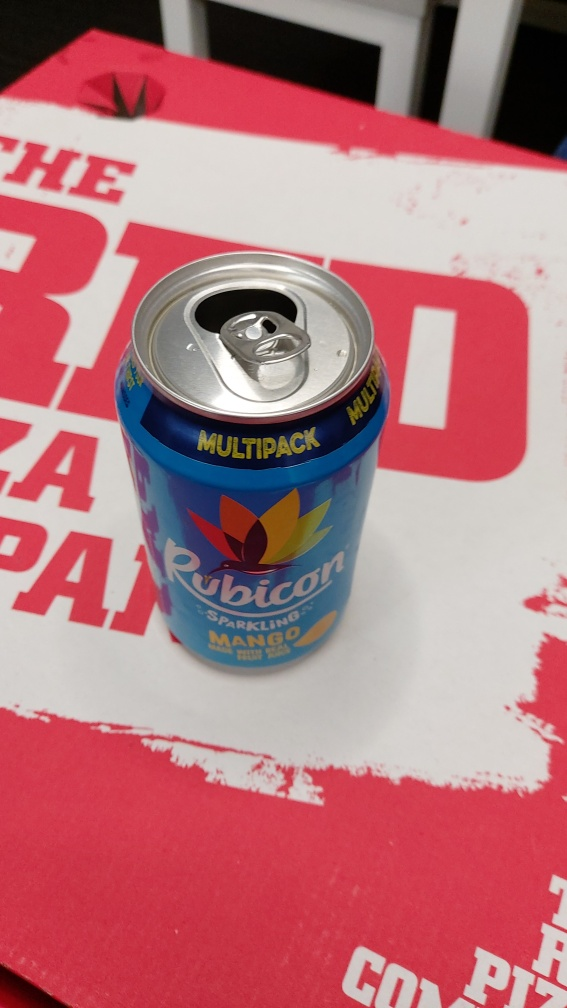can_blue: (99, 242, 418, 691)
